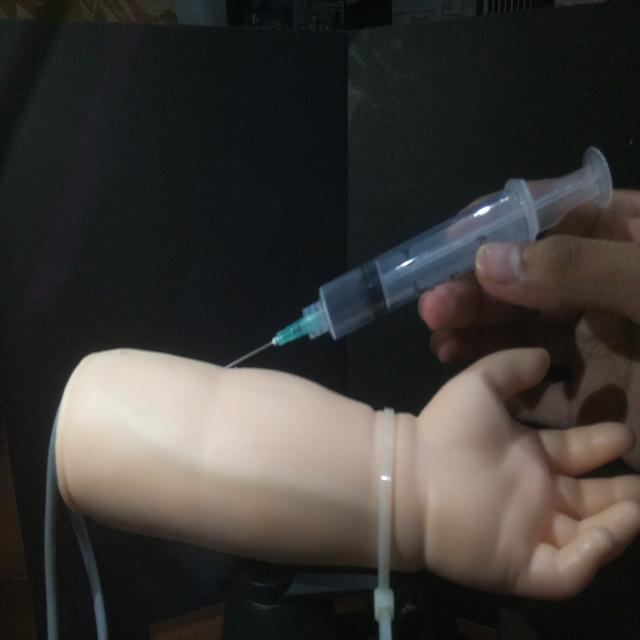21deg: (220, 140, 616, 372)
